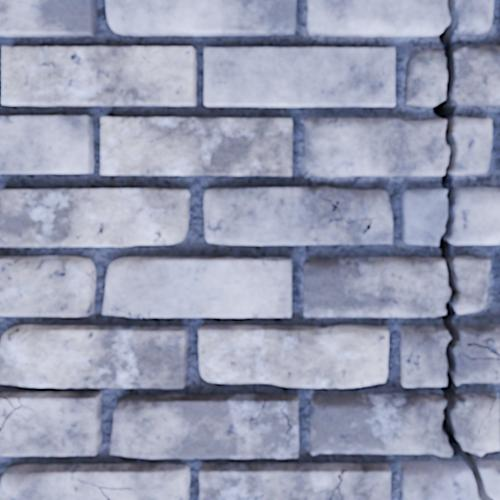brick: (111, 395, 298, 457), (0, 325, 187, 387), (199, 325, 387, 386), (2, 47, 195, 105), (205, 47, 394, 106), (103, 257, 291, 316), (204, 186, 391, 244), (101, 117, 291, 174), (0, 188, 189, 245), (200, 463, 389, 499), (106, 0, 295, 35), (0, 464, 188, 499), (0, 392, 101, 454), (0, 256, 94, 315), (0, 116, 93, 172), (0, 0, 95, 36), (333, 491, 340, 499)
broken_brick: (309, 392, 451, 457), (303, 256, 448, 317), (301, 117, 447, 177), (306, 0, 448, 37), (399, 460, 476, 499), (400, 325, 448, 387), (453, 392, 499, 456), (451, 186, 499, 245), (455, 323, 499, 386), (454, 45, 499, 106), (401, 187, 445, 246), (404, 49, 445, 107), (453, 115, 492, 175), (452, 255, 490, 314), (454, 0, 494, 35), (476, 459, 499, 499)
crack: (432, 0, 497, 499), (0, 396, 34, 431), (76, 478, 132, 499), (328, 469, 346, 499), (109, 307, 153, 318)
